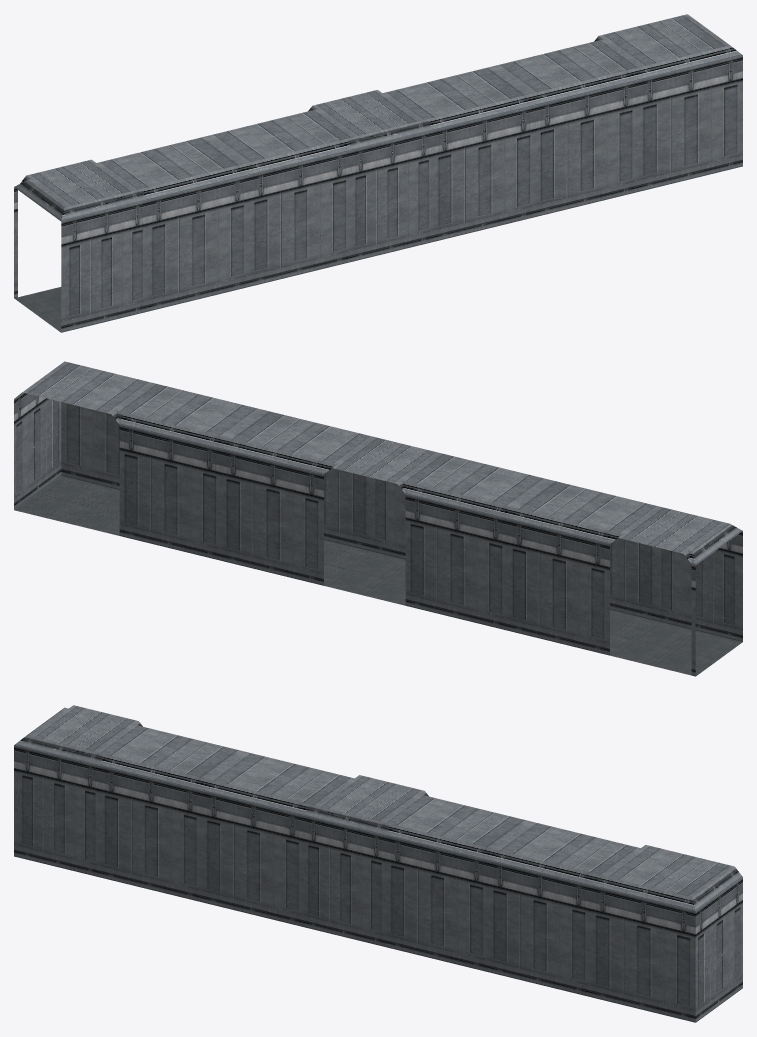
Rendered from thm_nboo_thed_emp_retreat_r19_hall6_mesh_r19.fbx.
3 views of the same model, one above another, from view 1: azimuth 30°, elevation 25°; view 2: azimuth 150°, elevation 25°; view 3: azimuth 330°, elevation 25° (orthographic).
Parts seen in each view (by area): view 1: mesh_node; view 2: mesh_node; view 3: mesh_node.
Part boxes in pixels (left/top/right/bottom): mesh_node: left=14, top=14, right=742, bottom=332; mesh_node: left=14, top=361, right=742, bottom=676; mesh_node: left=14, top=705, right=742, bottom=1022.
Bounding box in the file's own units: 33.36 × 5.6 × 4.
